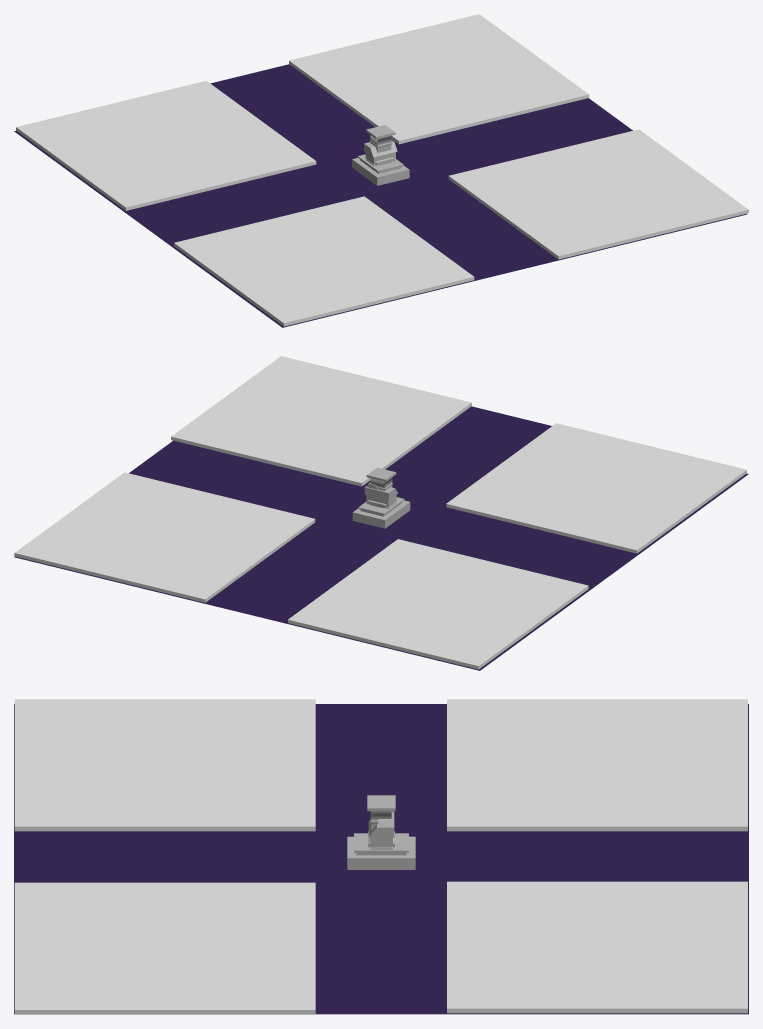
File: BaobabCrossroads.glb
3 renders of one model, top to bottom at view 1: azimuth 30°, elevation 25°; view 2: azimuth 150°, elevation 25°; view 3: azimuth 270°, elevation 25°, orthographic. The views are drawn at different scales.
Parts seen in each view (by area): view 1: Street, Sidewalk 2, Sidewalk 3, Sidewalk 4, Sidewalk 1, Building_05, Building_02; view 2: Street, Sidewalk 1, Sidewalk 2, Sidewalk 3, Sidewalk 4, Building_05, Building_03; view 3: Street, Sidewalk 3, Sidewalk 4, Sidewalk 1, Sidewalk 2, Building_05, Building_03, Building_02.
Part boxes in pixels (box(x1,y1,x2,y2)): Street: box(14, 64, 747, 327); Sidewalk 2: box(16, 80, 316, 210); Sidewalk 3: box(174, 196, 474, 326); Sidewalk 4: box(448, 129, 748, 259); Sidewalk 1: box(289, 14, 589, 144); Building_05: box(352, 154, 409, 185); Building_02: box(366, 125, 395, 152); Street: box(14, 406, 748, 670); Sidewalk 1: box(14, 472, 315, 602); Sidewalk 2: box(288, 539, 588, 669); Sidewalk 3: box(446, 423, 746, 553); Sidewalk 4: box(171, 356, 471, 486); Building_05: box(352, 497, 410, 528); Building_03: box(364, 482, 397, 508); Street: box(14, 704, 748, 1014); Sidewalk 3: box(14, 699, 315, 831); Sidewalk 4: box(14, 882, 315, 1014); Sidewalk 1: box(447, 881, 747, 1013); Sidewalk 2: box(447, 699, 747, 831); Building_05: box(347, 833, 415, 869); Building_03: box(368, 811, 394, 849); Building_02: box(367, 795, 395, 829).
Size of the model in its own units: 60.2 by 5.16 by 60.
